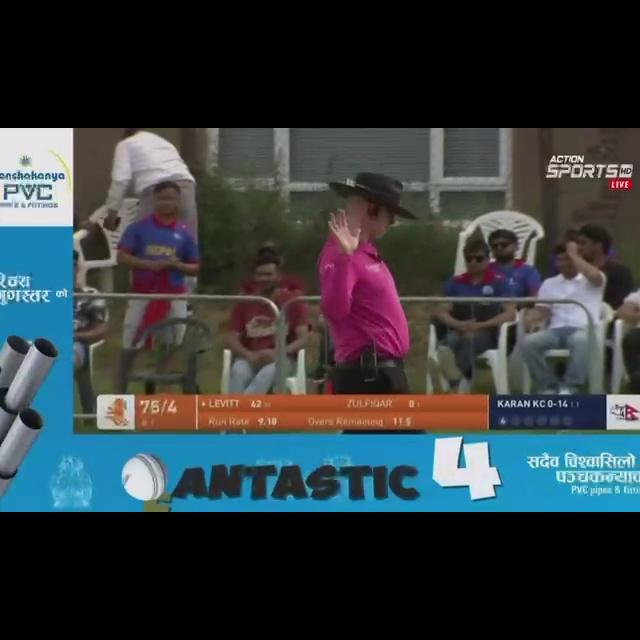umpire: (286, 148, 457, 389)
